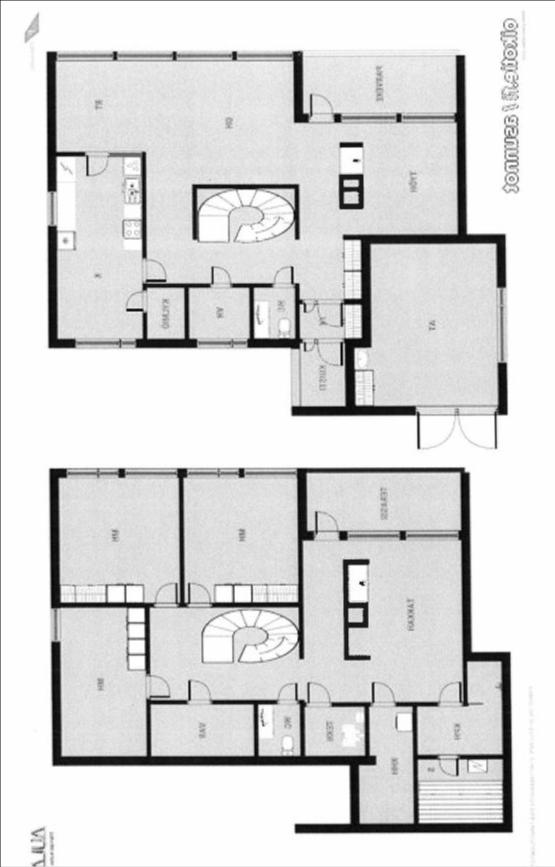bathroom: (254, 285, 296, 341), (258, 702, 299, 758)
door: (413, 404, 458, 453), (457, 403, 497, 450), (306, 90, 341, 123), (81, 150, 112, 184), (312, 508, 342, 540), (368, 679, 401, 707), (316, 296, 345, 327), (184, 677, 214, 706), (304, 678, 335, 706), (124, 284, 148, 318), (152, 582, 178, 612), (140, 257, 171, 282), (434, 679, 463, 704), (142, 676, 172, 700), (209, 264, 236, 290), (438, 751, 463, 779), (276, 678, 300, 706), (318, 338, 342, 366), (188, 581, 212, 608), (272, 263, 296, 288), (300, 332, 314, 354), (300, 293, 316, 310)
perimeter: (48, 52, 508, 418), (49, 465, 510, 827)
stairs: (199, 606, 300, 666), (196, 187, 294, 248)
window: (237, 464, 302, 484), (230, 44, 296, 62), (189, 334, 251, 353), (116, 464, 185, 481), (58, 464, 126, 481), (330, 111, 401, 127), (288, 345, 305, 411), (171, 46, 236, 63), (401, 527, 464, 544), (47, 49, 121, 63), (395, 110, 458, 126), (68, 338, 142, 351), (42, 182, 61, 232), (112, 49, 178, 63), (339, 530, 407, 542), (181, 467, 241, 480), (46, 602, 60, 648)
